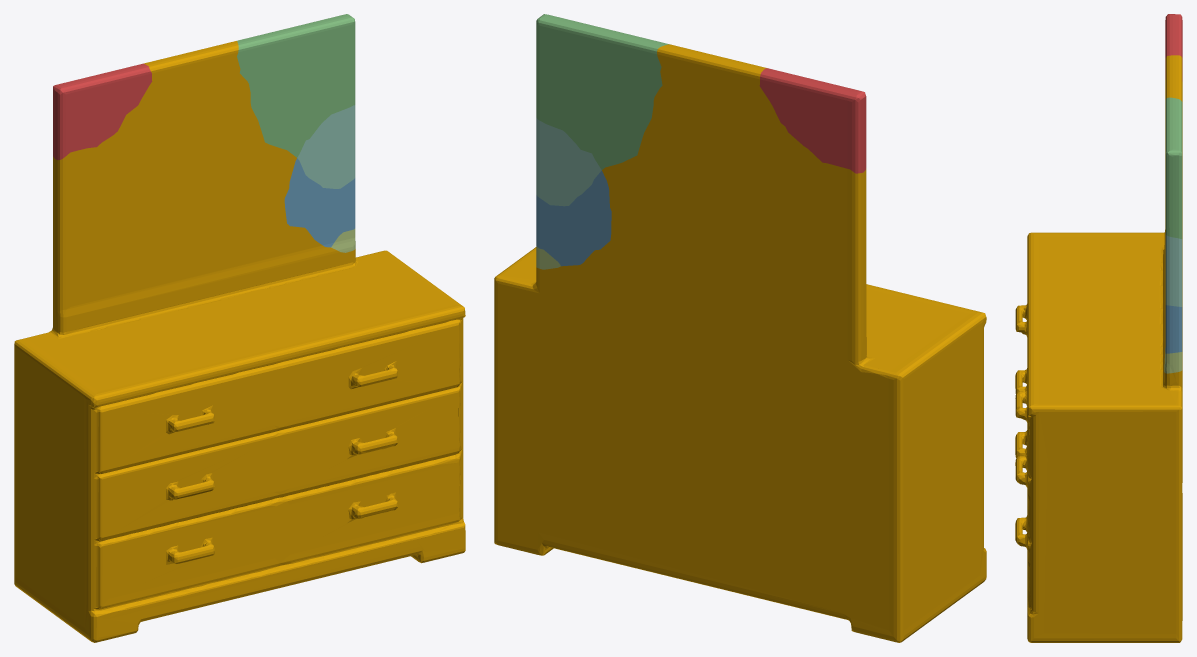
Rendered from fractured_61_6pcs.glb.
3 renders of one model, left to right at view 1: azimuth 30°, elevation 25°; view 2: azimuth 150°, elevation 25°; view 3: azimuth 270°, elevation 25°, orthographic. The views are drawn at different scales.
Visible parts, largest first — view 1: piece_0.obj, piece_3.obj, piece_1.obj, piece_2.obj, piece_4.obj; view 2: piece_0.obj, piece_3.obj, piece_1.obj, piece_2.obj, piece_4.obj; view 3: piece_0.obj, piece_3.obj, piece_4.obj, piece_2.obj, piece_1.obj, piece_5.obj.
Boxes of the visible parts, left/top/right/bottom form: piece_0.obj: left=14, top=41, right=465, bottom=642; piece_3.obj: left=237, top=14, right=355, bottom=157; piece_1.obj: left=53, top=63, right=152, bottom=160; piece_2.obj: left=284, top=158, right=355, bottom=247; piece_4.obj: left=297, top=105, right=355, bottom=188; piece_0.obj: left=494, top=44, right=986, bottom=642; piece_3.obj: left=536, top=14, right=670, bottom=169; piece_1.obj: left=759, top=68, right=866, bottom=173; piece_2.obj: left=536, top=170, right=611, bottom=266; piece_4.obj: left=536, top=118, right=601, bottom=206; piece_0.obj: left=1015, top=55, right=1182, bottom=642; piece_3.obj: left=1165, top=97, right=1182, bottom=238; piece_4.obj: left=1165, top=234, right=1182, bottom=306; piece_2.obj: left=1165, top=305, right=1182, bottom=353; piece_1.obj: left=1165, top=14, right=1182, bottom=81; piece_5.obj: left=1164, top=352, right=1182, bottom=373.
Bounding box in the file's own units: 0.7955 × 1 × 0.3192.
